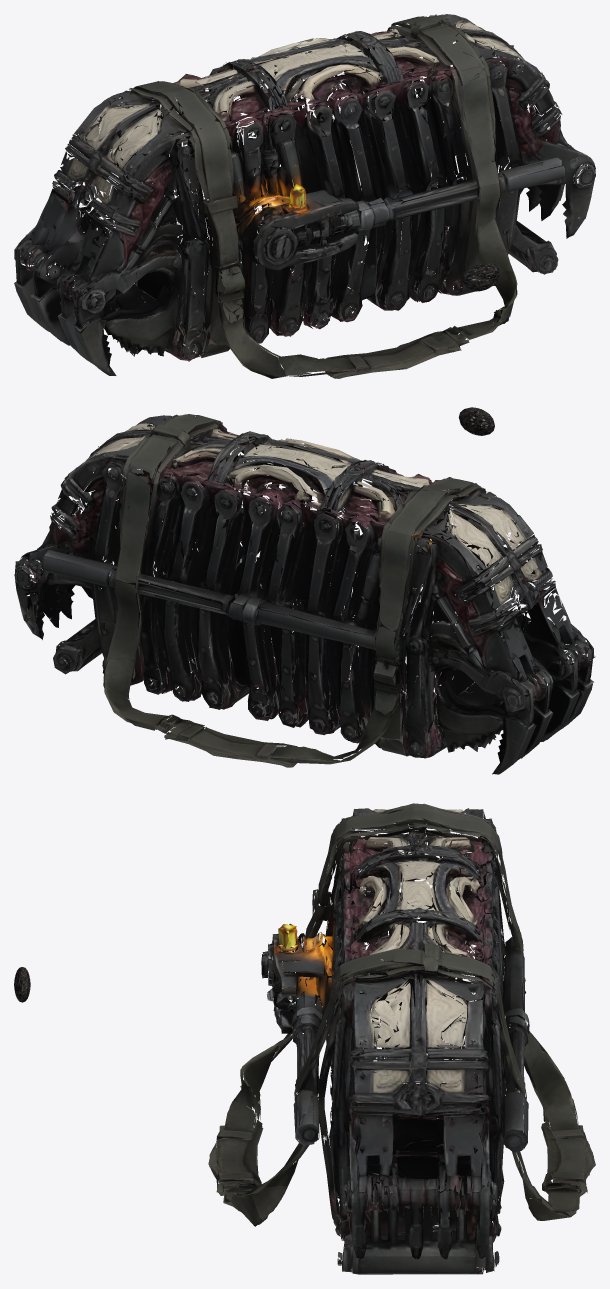
The model's file is traversal_collapsible_chasm_stitcher.glb.
3 renders of one model, top to bottom at view 1: azimuth 30°, elevation 25°; view 2: azimuth 150°, elevation 25°; view 3: azimuth 270°, elevation 25°, orthographic. The views are drawn at different scales.
Parts seen in each view (by area): view 1: node_0, HB_PULSE_00; view 2: node_0, HB_PULSE_00; view 3: node_0.
Part boxes in pixels (bbox=[...]): node_0: bbox=[14, 14, 595, 378]; HB_PULSE_00: bbox=[463, 262, 499, 291]; node_0: bbox=[14, 414, 595, 774]; HB_PULSE_00: bbox=[458, 407, 494, 435]; node_0: bbox=[208, 803, 595, 1274].
Size of the model in its own units: 1.13 by 0.5233 by 0.9662.
1 material, 1 textured.
